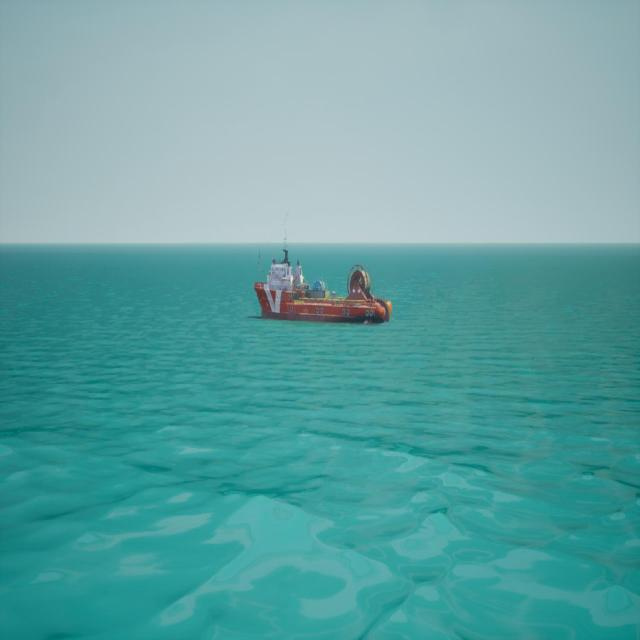tug boat: (251, 225, 394, 327)
